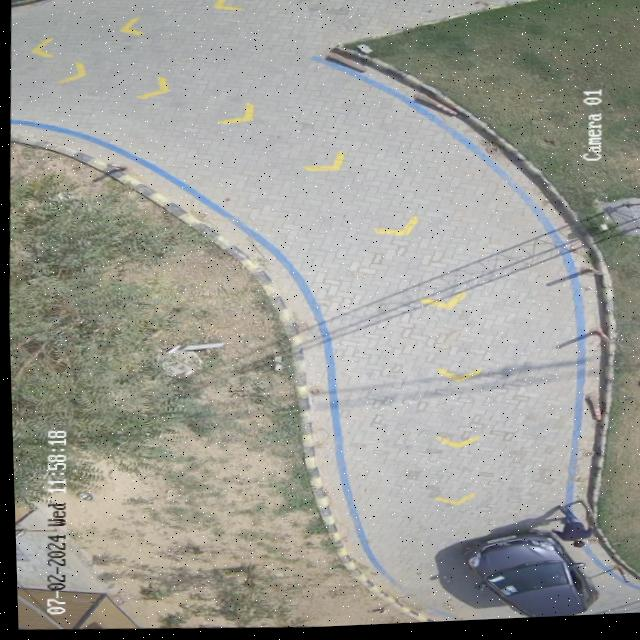car: (460, 534, 593, 622)
